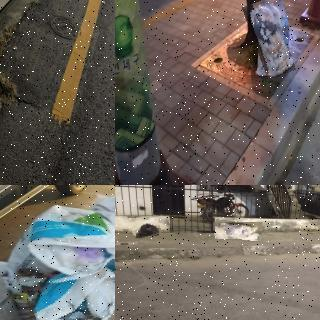Garbage: (9, 205, 115, 288), (30, 265, 115, 320), (247, 0, 290, 78), (215, 221, 262, 240), (132, 220, 162, 239)
